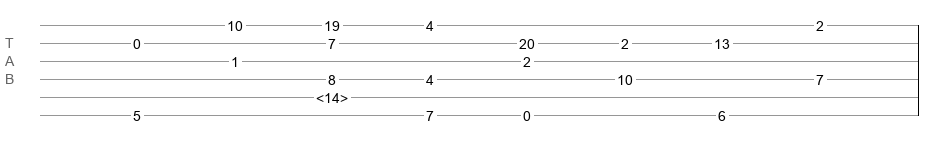0: (133, 36, 141, 46), (523, 108, 531, 118)
1: (231, 54, 239, 64)
10: (227, 18, 243, 28), (617, 72, 633, 82)
13: (714, 36, 730, 46)
19: (324, 18, 340, 28)
2: (523, 54, 531, 64), (621, 36, 629, 46), (816, 18, 824, 28)
20: (519, 36, 535, 46)
4: (426, 72, 434, 82), (426, 18, 434, 28)
5: (133, 108, 141, 118)
6: (718, 108, 726, 118)
7: (328, 36, 336, 46), (426, 108, 434, 118), (816, 72, 824, 82)
8: (328, 72, 336, 82)
harmonic: (316, 90, 348, 100)
